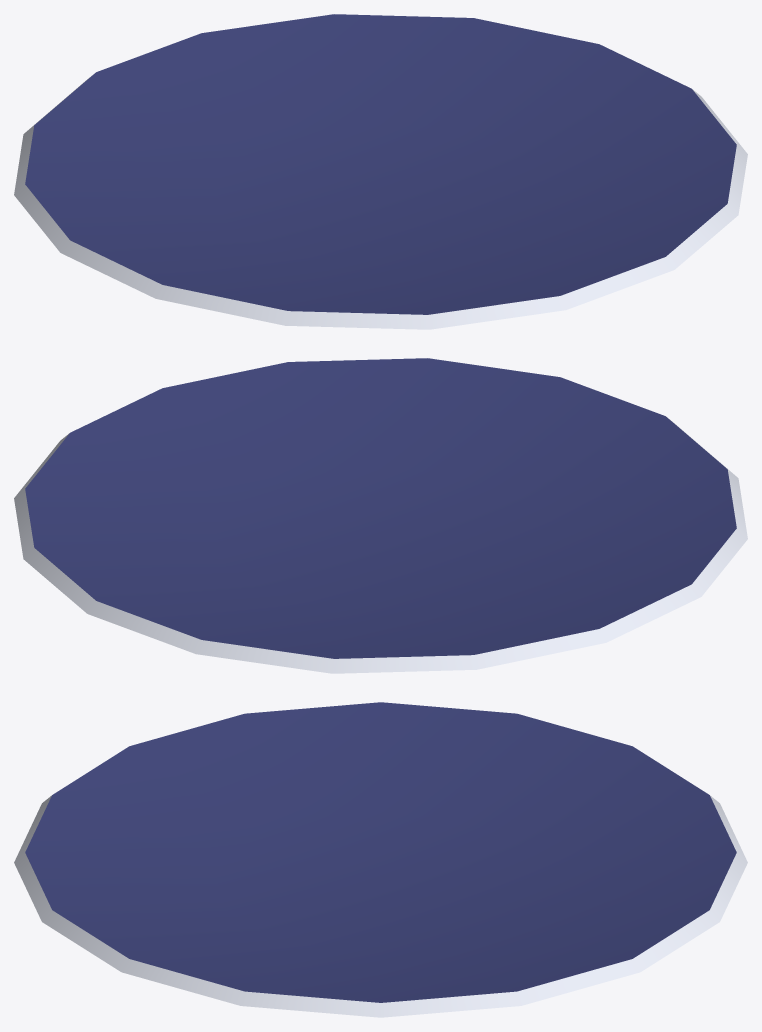
The model's file is tea_luna_saucer.glb.
3 renders of one model, top to bottom at view 1: azimuth 30°, elevation 25°; view 2: azimuth 150°, elevation 25°; view 3: azimuth 270°, elevation 25°, orthographic.
Parts seen in each view (by area): view 1: luna_Saucer; view 2: luna_Saucer; view 3: luna_Saucer.
Boxes of the visible parts, x1,y1,x2,y2 form: luna_Saucer: (14,14,747,329); luna_Saucer: (14,358,747,673); luna_Saucer: (14,702,747,1017).
Bounding box in the file's own units: 0.132 × 0.012 × 0.132.
